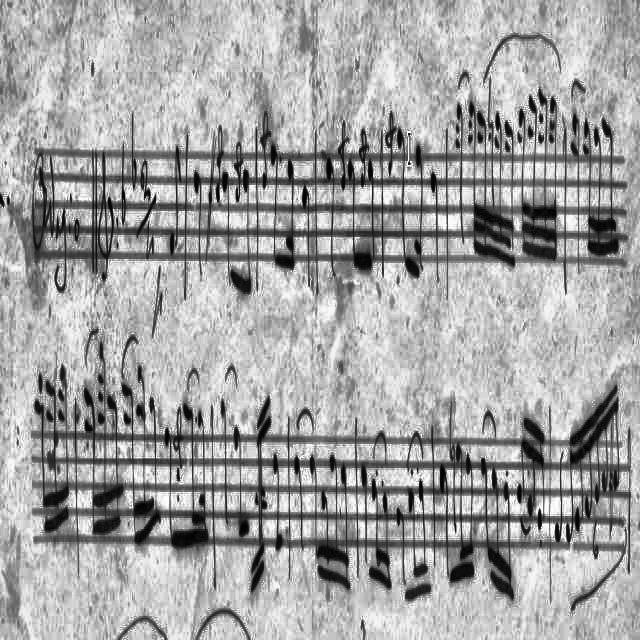Bemol: (130, 112, 142, 205), (118, 132, 125, 238)
Eighth-note: (230, 413, 250, 553), (164, 107, 180, 280), (398, 117, 410, 313), (438, 442, 452, 602), (224, 144, 236, 328), (164, 422, 176, 594), (346, 146, 358, 310), (269, 451, 285, 569), (360, 446, 372, 594), (270, 134, 280, 308), (243, 152, 253, 316), (367, 152, 379, 284), (397, 491, 408, 627)
Quarter-note: (452, 84, 468, 276), (322, 142, 338, 288), (570, 105, 582, 298), (412, 134, 424, 300), (551, 423, 565, 563), (301, 178, 315, 298), (428, 160, 442, 276), (292, 448, 304, 572), (222, 388, 230, 540)
Sixteenth-note: (602, 107, 620, 276), (453, 408, 467, 592), (326, 436, 342, 592), (476, 444, 492, 596), (308, 444, 322, 590), (407, 474, 421, 610), (463, 433, 475, 587), (318, 458, 332, 590), (563, 420, 577, 550), (417, 473, 431, 602), (340, 458, 352, 602), (286, 148, 298, 288), (592, 393, 604, 531), (504, 464, 516, 598), (517, 387, 527, 545), (368, 471, 380, 602), (584, 104, 592, 300), (491, 452, 502, 592), (582, 402, 594, 526), (381, 474, 392, 598), (537, 412, 547, 546), (594, 118, 602, 278), (576, 418, 586, 538), (613, 386, 623, 499), (527, 402, 535, 534), (602, 392, 608, 500)
Treble-clef: (96, 147, 120, 296)
